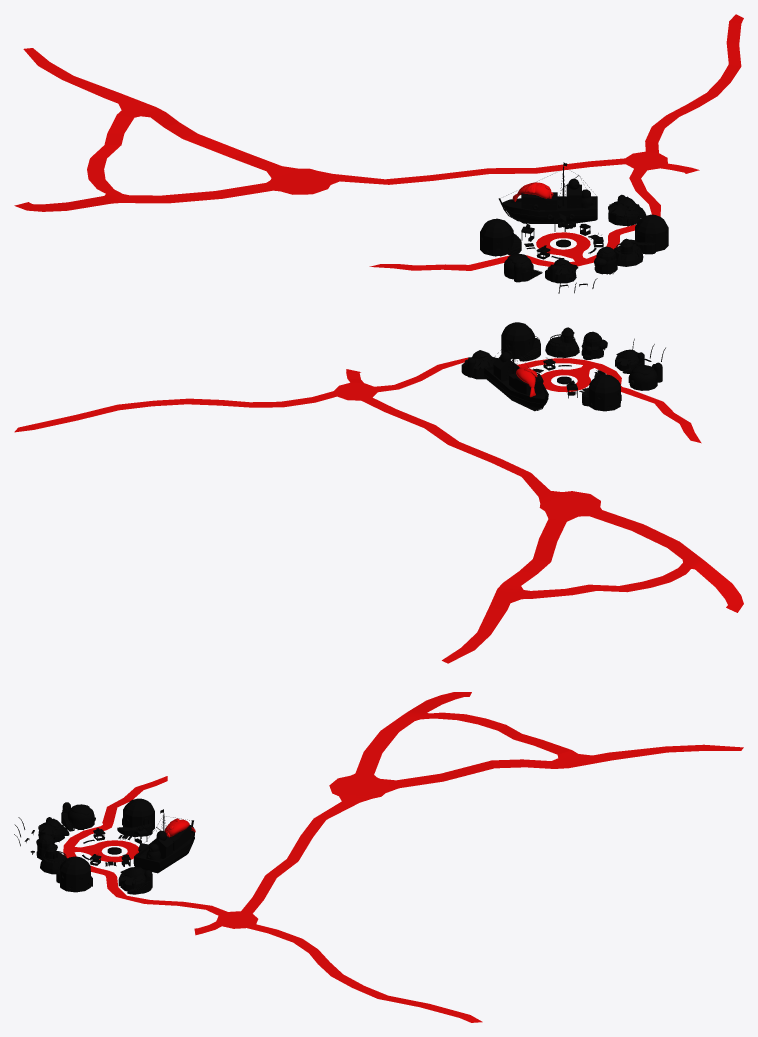
File: Neighborhood_SalmonSettlementLocked_03.glb
3 views of the same model, one above another, from view 1: azimuth 30°, elevation 25°; view 2: azimuth 150°, elevation 25°; view 3: azimuth 270°, elevation 25° (orthographic). The views are drawn at different scales.
Parts seen in each view (by area): view 1: Object_Road2, Neighborhood_SalmonSettlement_Locked_03_pasted__Boat02_paste; view 2: Object_Road2, Neighborhood_SalmonSettlement_Locked_03_pasted__Boat02_paste; view 3: Object_Road2, Neighborhood_SalmonSettlement_Locked_03_pasted__Boat02_paste.
Part boxes in pixels (x1,y1,x2,y2): Object_Road2: [14, 14, 743, 270]; Neighborhood_SalmonSettlement_Locked_03_pasted__Boat02_paste: [480, 162, 668, 293]; Object_Road2: [14, 357, 743, 663]; Neighborhood_SalmonSettlement_Locked_03_pasted__Boat02_paste: [461, 322, 665, 411]; Object_Road2: [63, 692, 743, 1022]; Neighborhood_SalmonSettlement_Locked_03_pasted__Boat02_paste: [14, 798, 195, 894].
Bounding box in the file's own units: 190 × 16.7 × 172.
